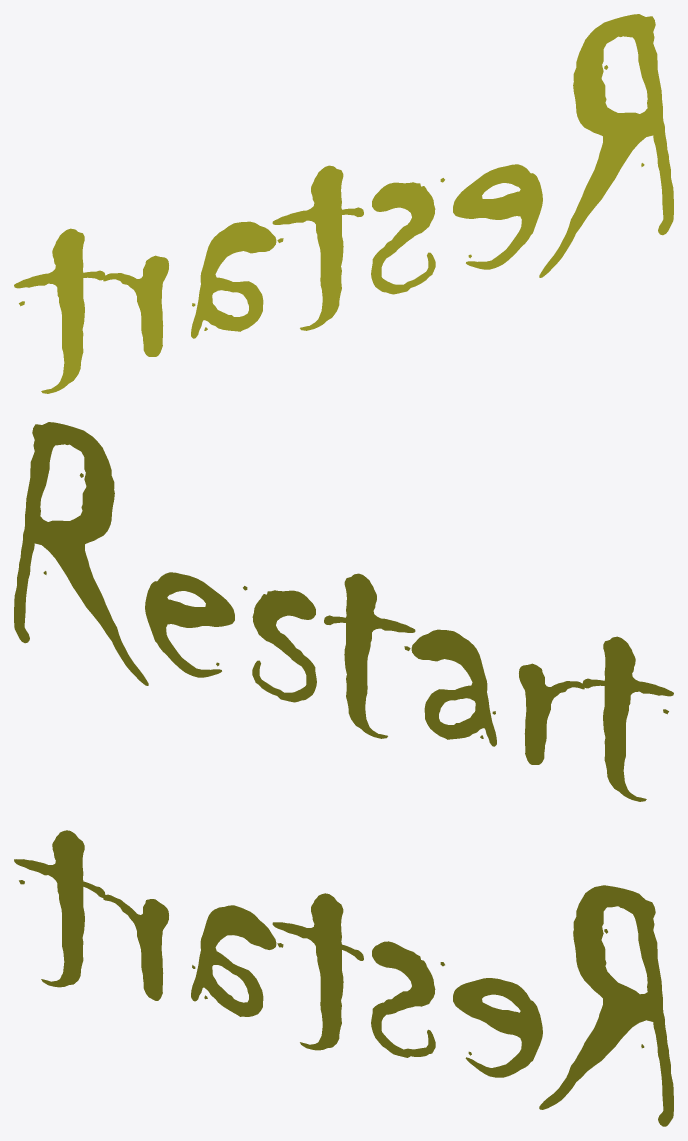
Rendered from restartPauseMenuButtonText.obj.
3 views of the same model, one above another, from view 1: azimuth 30°, elevation 25°; view 2: azimuth 150°, elevation 25°; view 3: azimuth 330°, elevation 25° (orthographic).
Parts seen in each view (by area): view 1: restartPauseMenuButtonText; view 2: restartPauseMenuButtonText; view 3: restartPauseMenuButtonText.
Boxes of the visible parts, box(x1,y1,x2,y2) form: restartPauseMenuButtonText: box(14, 14, 673, 393); restartPauseMenuButtonText: box(14, 422, 673, 801); restartPauseMenuButtonText: box(14, 830, 673, 1126).
Size of the model in its own units: 1.82 by 0.6361 by 0.
